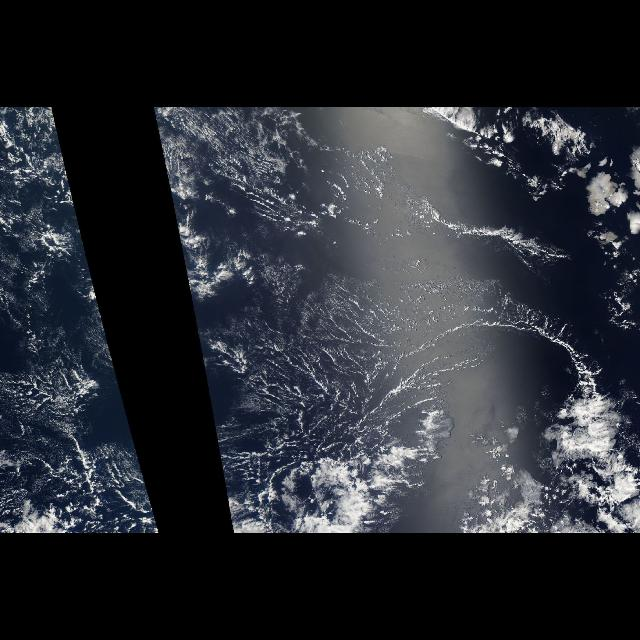Sugar: (230, 276, 588, 436), (0, 183, 148, 505), (156, 108, 398, 236)
